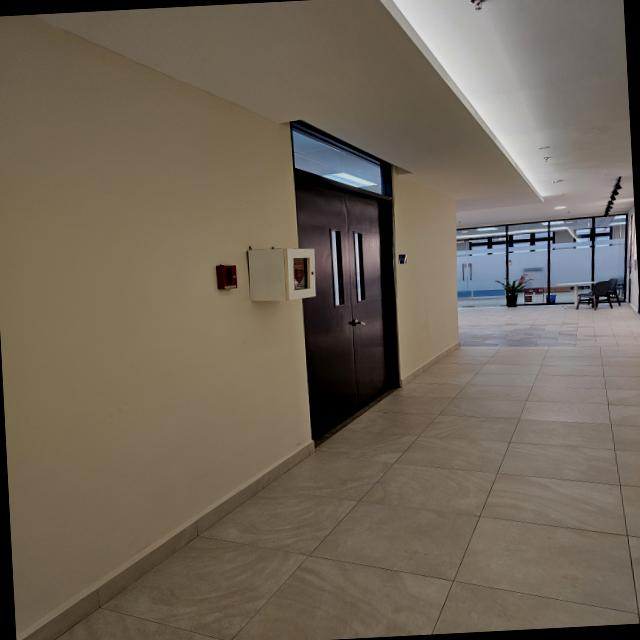door: (294, 158, 420, 452)
footpath: (223, 435, 640, 640)
obstacle: (193, 231, 318, 310), (547, 276, 631, 310)
